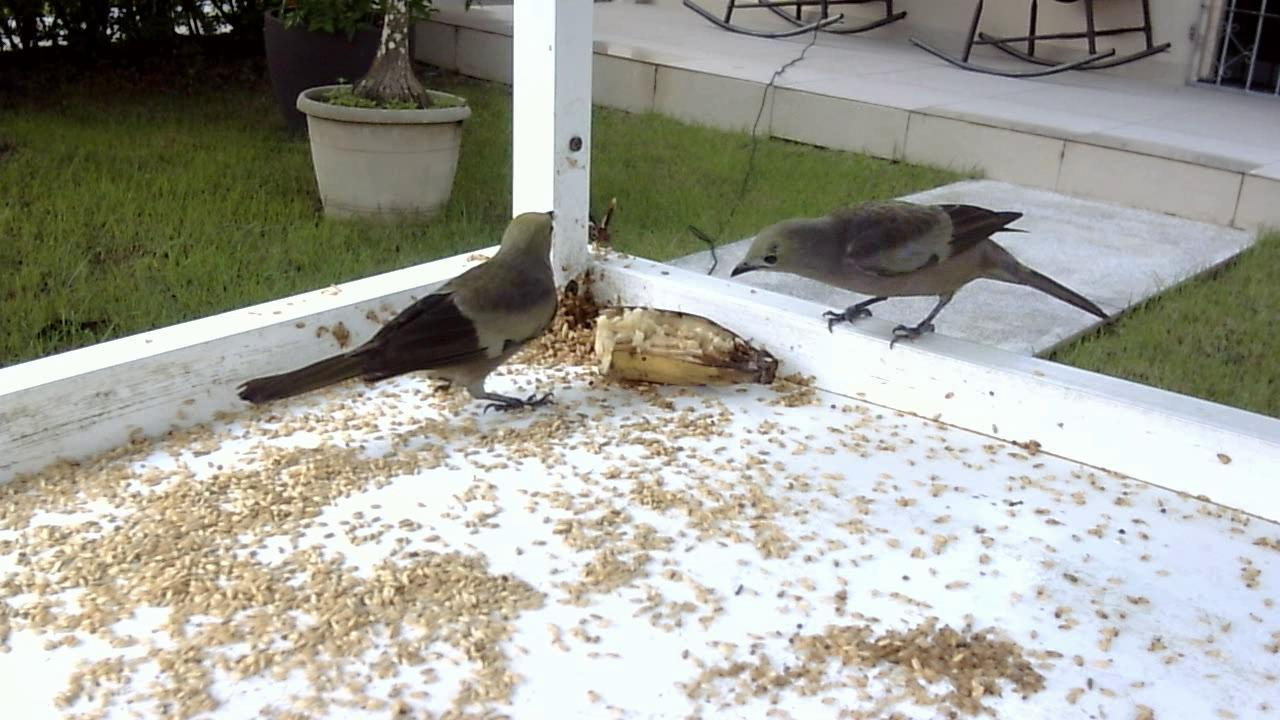sanhaco_do_coqueiro: (726, 165, 1108, 365), (234, 207, 567, 428)
